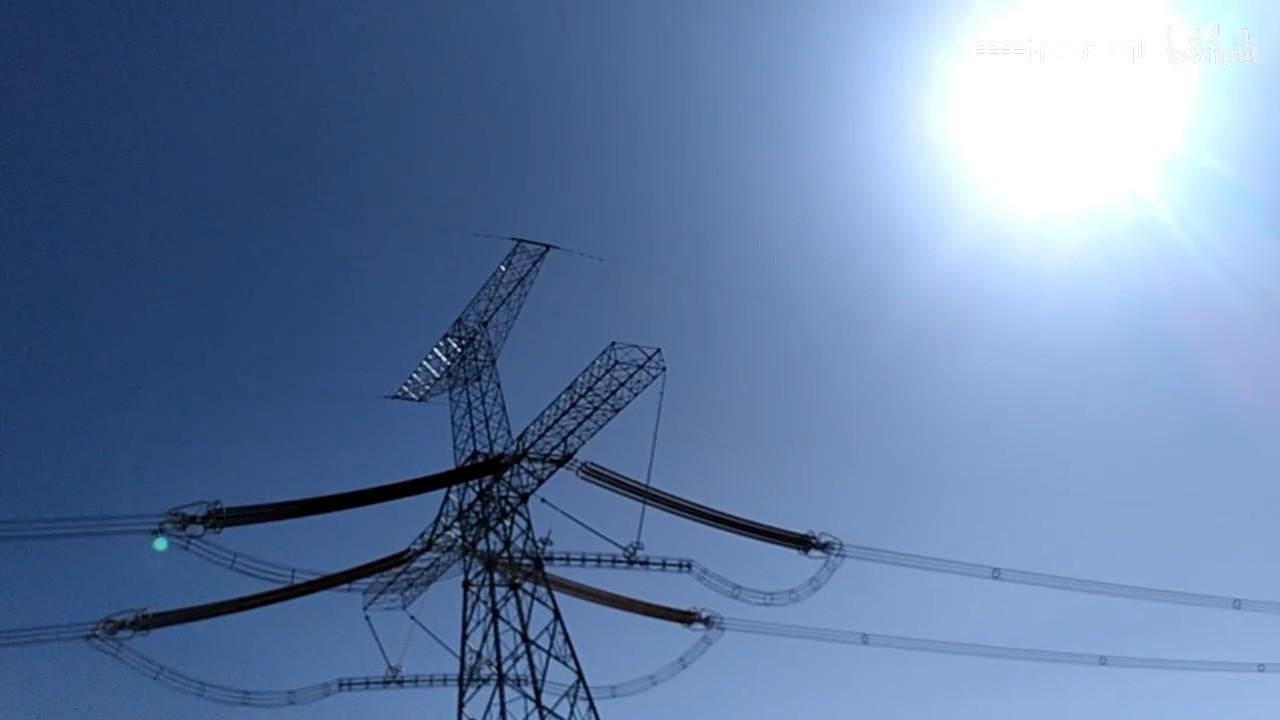power_tower: (95, 218, 839, 720)
